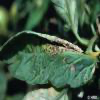Tomato Septoria leaf spot: (1, 29, 97, 90)
